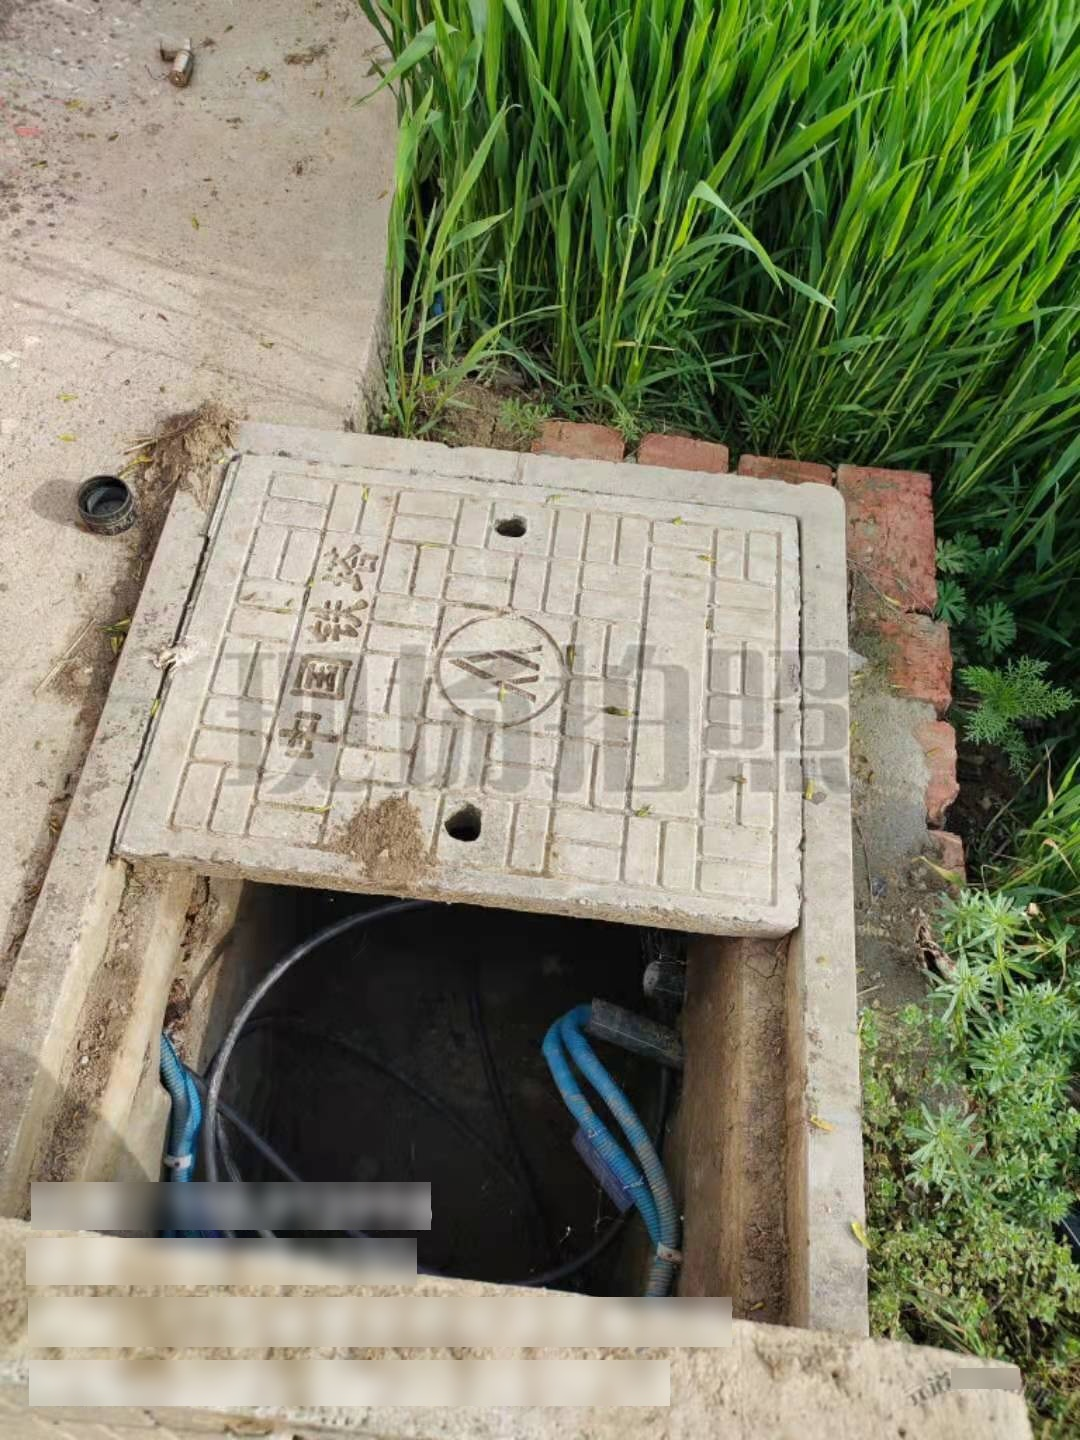well: (5, 426, 839, 1323)
